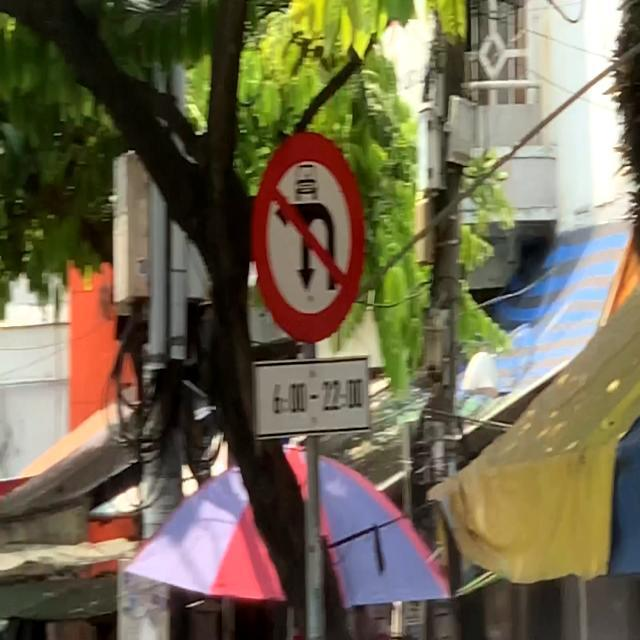124c-cam-re-trai-va-cam-quay-dau-xe: (251, 133, 366, 344)
